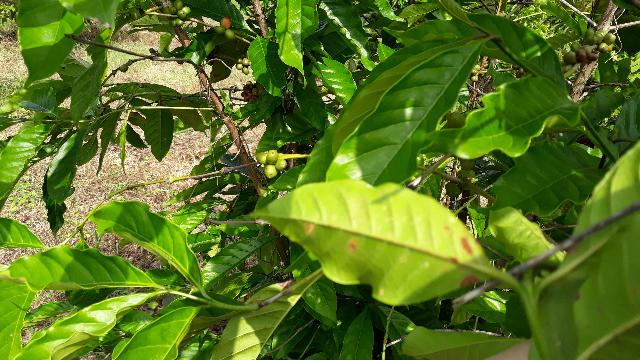red_spider_mite: (247, 177, 496, 313)
